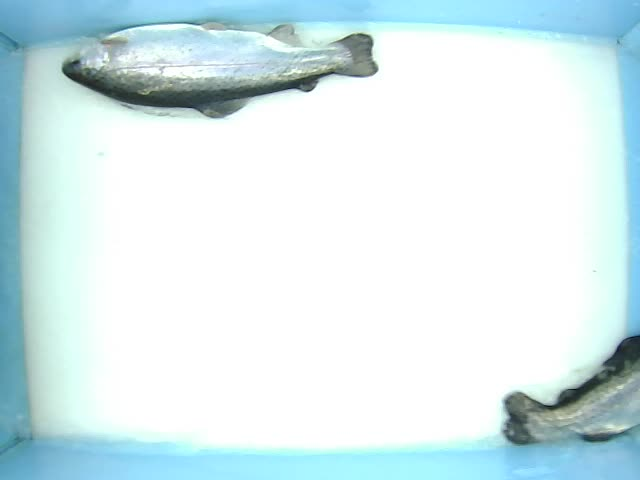fish: (49, 12, 400, 130)
